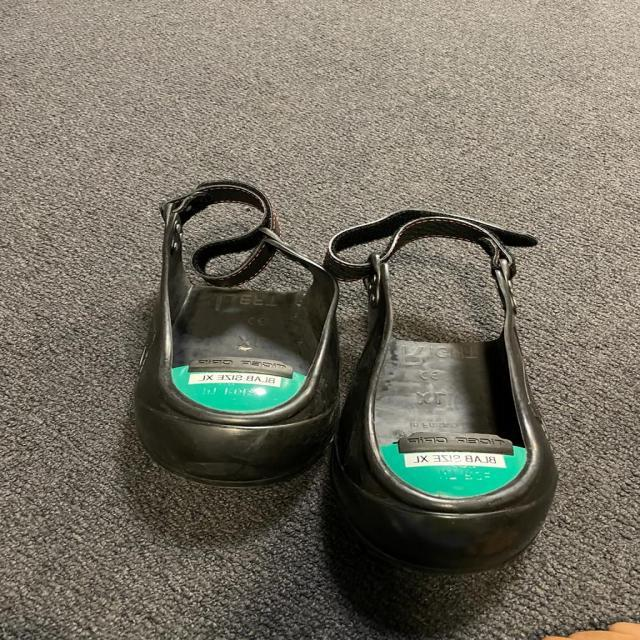shoes: (324, 203, 551, 576), (125, 176, 338, 500)
